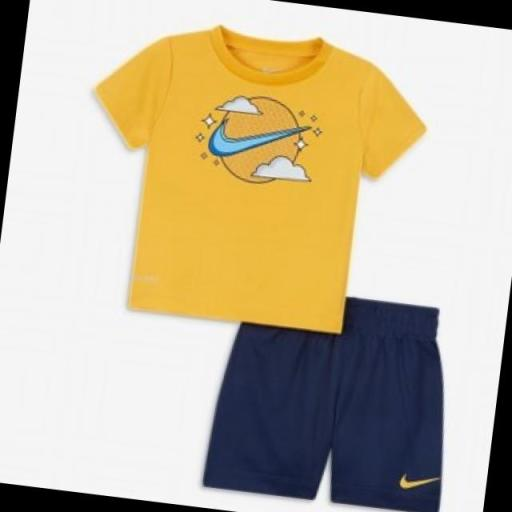Nike: (392, 464, 442, 499)
